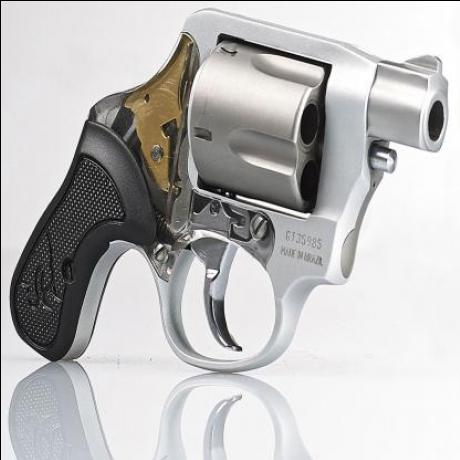weapon: (5, 4, 455, 380)
